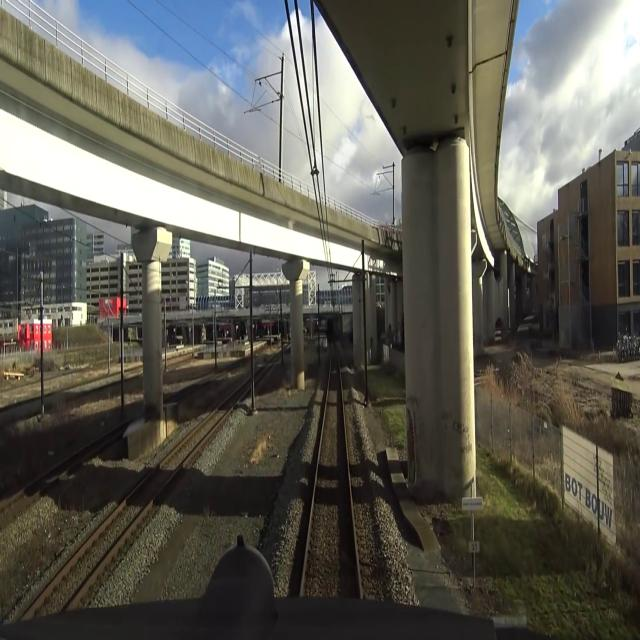rail-track: (29, 380, 251, 619), (303, 343, 356, 588), (0, 443, 99, 514), (254, 364, 269, 380)
